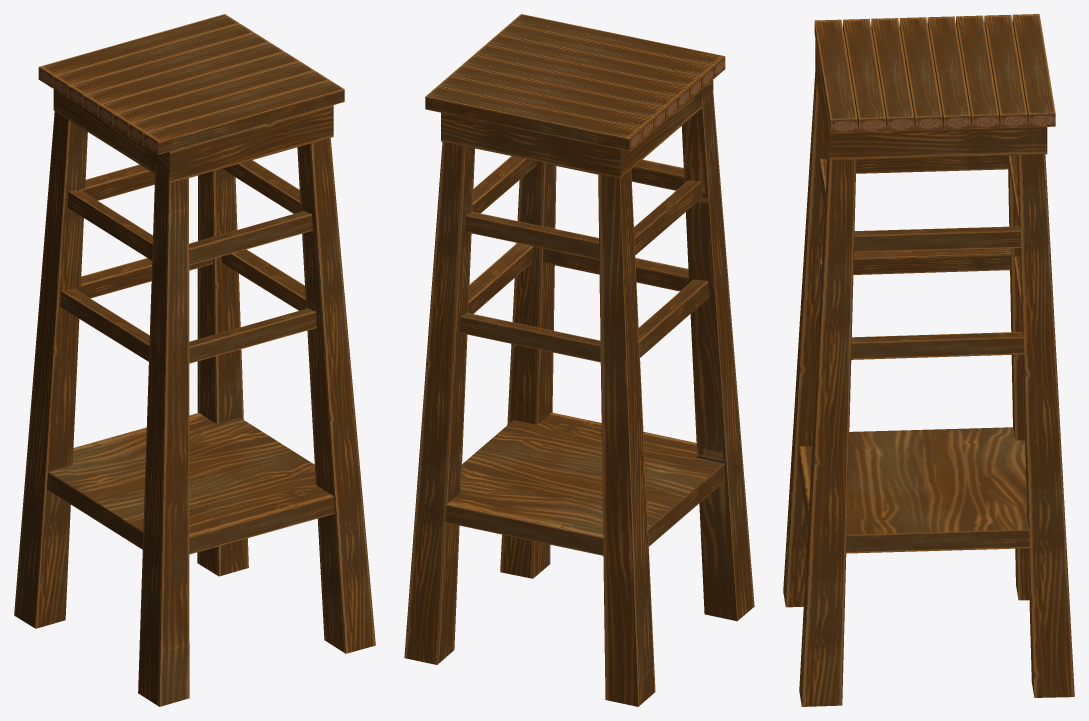
The picture shows the model from 3 angles, left to right: view 1: azimuth 30°, elevation 25°; view 2: azimuth 150°, elevation 25°; view 3: azimuth 270°, elevation 25°; orthographic projection. The views are drawn at different scales.
Parts seen in each view (by area): view 1: Cube.037; view 2: Cube.037; view 3: Cube.037.
Part boxes in pixels (<box>): Cube.037: <box>14,14,375,706</box>; Cube.037: <box>404,14,754,706</box>; Cube.037: <box>783,14,1074,706</box>.
Size of the model in its own units: 433 by 947 by 433.
1 material, 1 textured.
